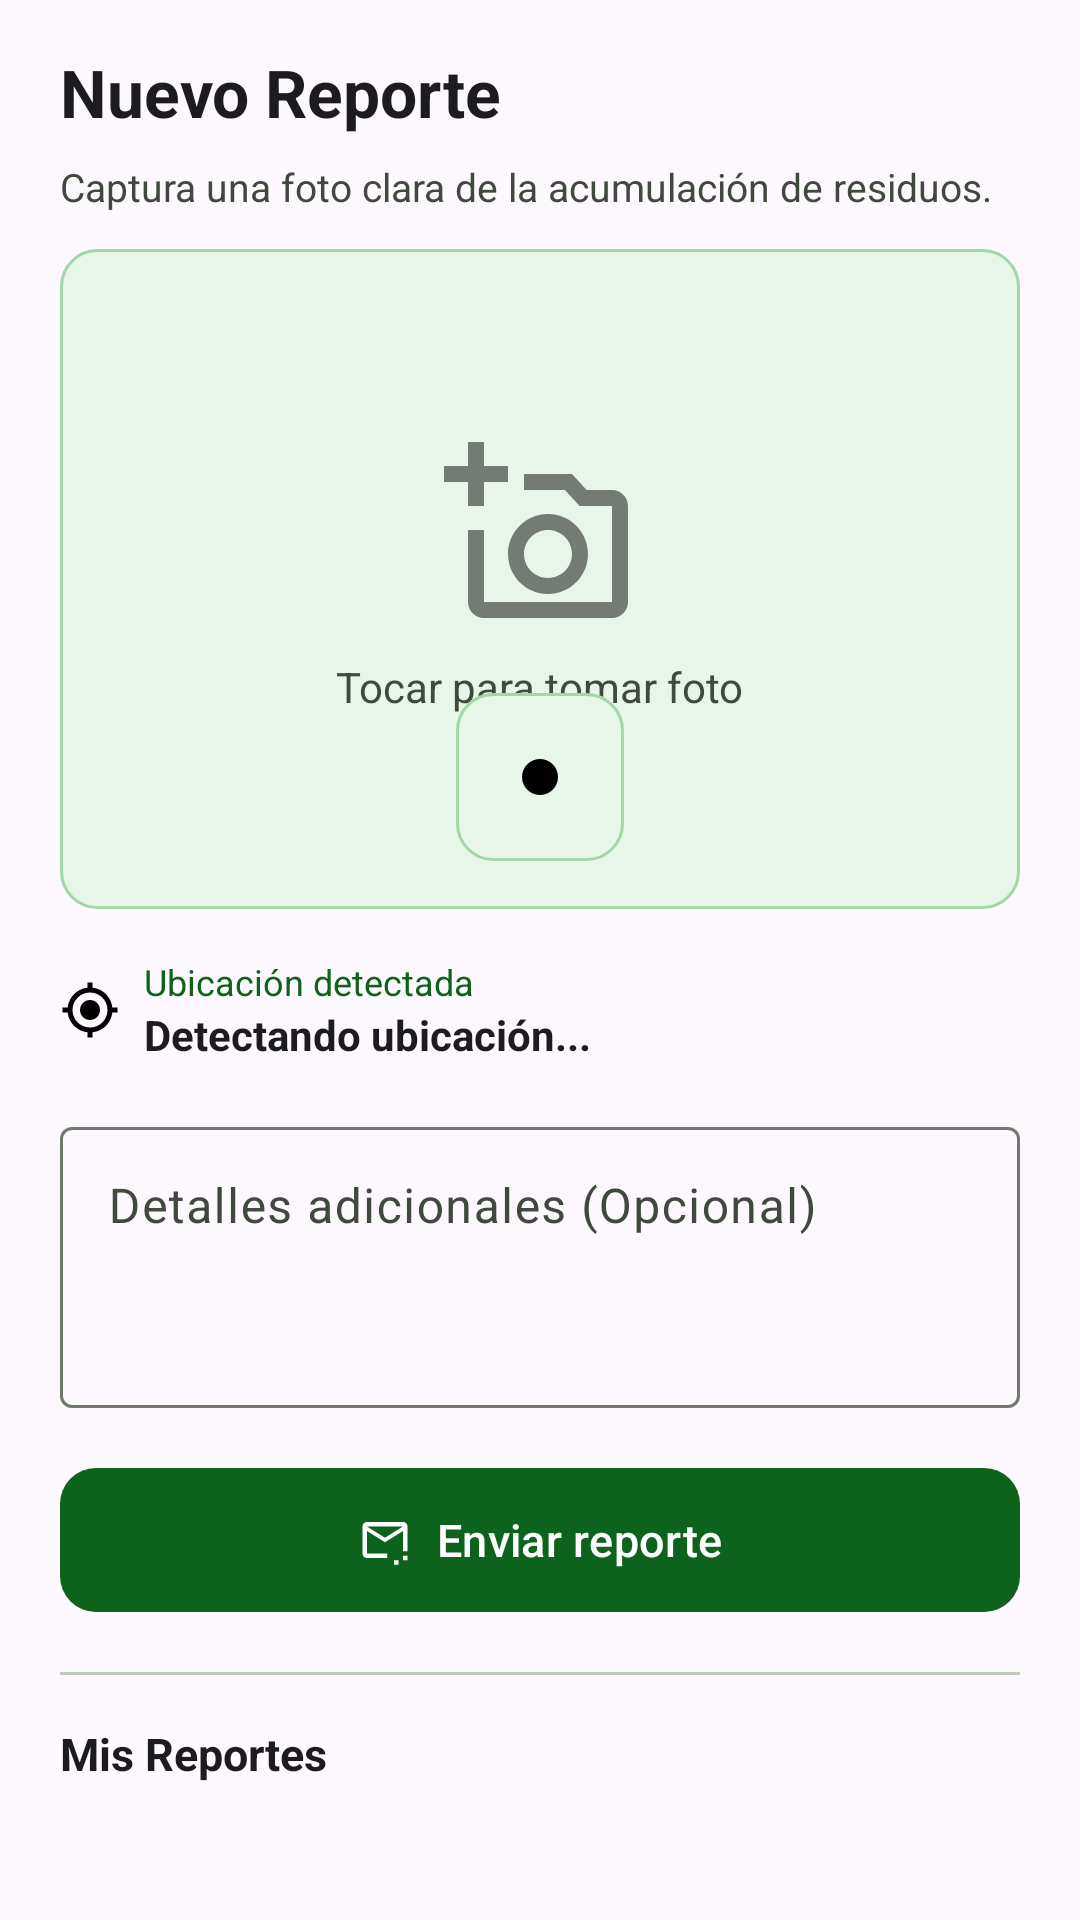

Locate icon controls on the screen. Image size 1080px×1920px, boxes as [left=x1, top=y1, right=x2, bottom=y2].
Captura una foto clara de la acumulación de residuos: [left=444, top=442, right=628, bottom=618]
